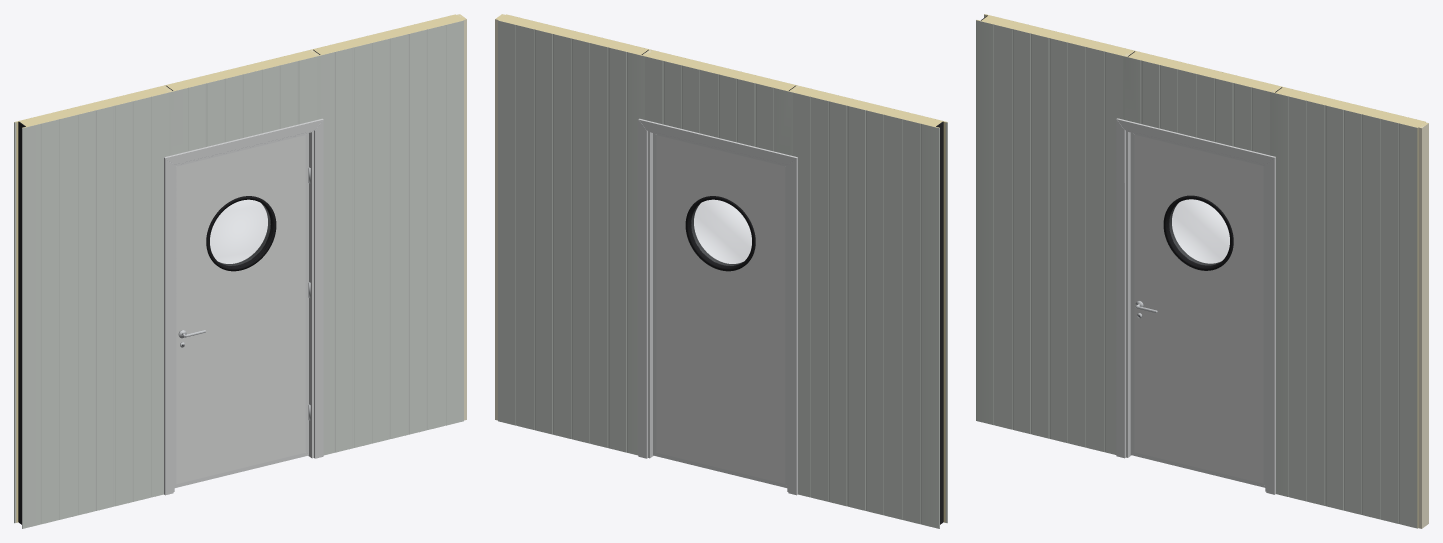
The model's file is clean-3x7.glb.
3 views of the same model, side by side, from view 1: azimuth 30°, elevation 25°; view 2: azimuth 150°, elevation 25°; view 3: azimuth 330°, elevation 25° (orthographic).
Parts seen in each view (by area): view 1: Wall_p0_Steel_top, Wall_p2_Steel_top, SkinF, Wall_p1_Steel_top, TrimF_L, TrimF_R, PortGlass, Wall_p0_PIR_core, Wall_p0_Gasket, TrimF_T, LinerR, Wall_p1_PIR_core (+8 smaller); view 2: Wall_p0_Steel_bottom, Wall_p2_Steel_bottom, SkinB, Wall_p1_Steel_bottom, TrimB_L, TrimB_R, PortGlass, Wall_p0_PIR_core, LinerR, Wall_p0_Gasket, TrimB_T, Wall_p1_PIR_core (+8 smaller); view 3: Wall_p2_Steel_top, Wall_p0_Steel_top, SkinF, Wall_p1_Steel_top, Wall_p2_Tongue_tape, TrimF_R, TrimF_L, PortGlass, Wall_p2_PIR_core, LinerL, TrimF_T, Wall_p0_PIR_core (+6 smaller).
Boxes of the visible parts, bbox=[...] form: Wall_p0_Steel_top: bbox=[22, 92, 169, 528]; Wall_p2_Steel_top: bbox=[317, 20, 463, 455]; SkinF: bbox=[176, 135, 305, 484]; Wall_p1_Steel_top: bbox=[169, 56, 316, 155]; TrimF_L: bbox=[164, 157, 173, 495]; TrimF_R: bbox=[314, 120, 323, 458]; PortGlass: bbox=[210, 200, 270, 265]; Wall_p0_PIR_core: bbox=[14, 86, 171, 522]; Wall_p0_Gasket: bbox=[18, 121, 25, 524]; TrimF_T: bbox=[164, 118, 323, 164]; LinerR: bbox=[308, 131, 313, 458]; Wall_p1_PIR_core: bbox=[161, 50, 318, 92]; Wall_p0_Steel_bottom: bbox=[792, 92, 939, 528]; Wall_p2_Steel_bottom: bbox=[498, 20, 644, 455]; SkinB: bbox=[656, 135, 785, 483]; Wall_p1_Steel_bottom: bbox=[645, 56, 792, 155]; TrimB_L: bbox=[788, 157, 797, 495]; TrimB_R: bbox=[638, 120, 647, 458]; PortGlass: bbox=[691, 200, 751, 265]; Wall_p0_PIR_core: bbox=[790, 86, 947, 522]; LinerR: bbox=[648, 131, 653, 458]; Wall_p0_Gasket: bbox=[936, 121, 943, 524]; TrimB_T: bbox=[638, 118, 797, 164]; Wall_p1_PIR_core: bbox=[643, 50, 800, 92]; Wall_p2_Steel_top: bbox=[1270, 92, 1417, 528]; Wall_p0_Steel_top: bbox=[976, 20, 1123, 454]; SkinF: bbox=[1134, 134, 1263, 483]; Wall_p1_Steel_top: bbox=[1123, 56, 1270, 155]; Wall_p2_Tongue_tape: bbox=[1418, 123, 1428, 528]; TrimF_R: bbox=[1266, 157, 1275, 494]; TrimF_L: bbox=[1116, 119, 1125, 458]; PortGlass: bbox=[1169, 199, 1229, 265]; Wall_p2_PIR_core: bbox=[1271, 86, 1428, 527]; LinerL: bbox=[1126, 130, 1131, 457]; TrimF_T: bbox=[1116, 118, 1275, 164]; Wall_p0_PIR_core: bbox=[976, 14, 1133, 56].
Size of the model in its own units: 3.02 by 2.6 by 0.133.
